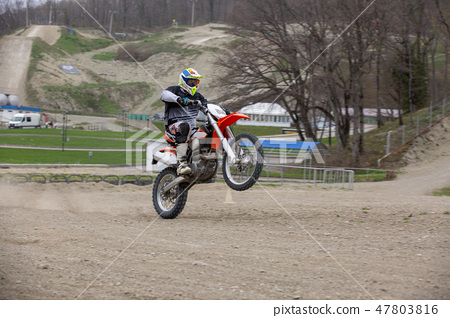helmet: (177, 65, 204, 96)
